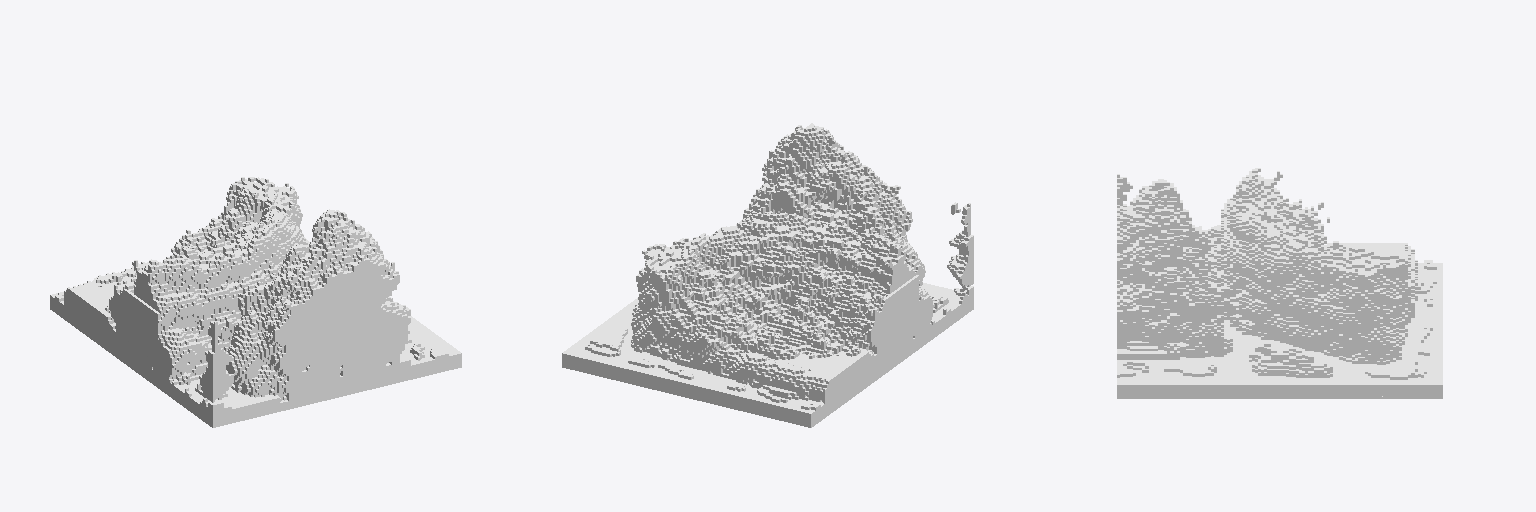
File: Lava_stuff-34.obj
3 views of the same model, side by side, from view 1: azimuth 30°, elevation 25°; view 2: azimuth 150°, elevation 25°; view 3: azimuth 270°, elevation 25° (orthographic).
Parts seen in each view (by area): view 1: object 1; view 2: object 1; view 3: object 1.
Part boxes in pixels (x1,y1,x2,y2): object 1: (50,177,461,427); object 1: (562,123,973,427); object 1: (1117,168,1442,398).
Bounding box in the file's own units: 18.4 × 11.6 × 20.8.